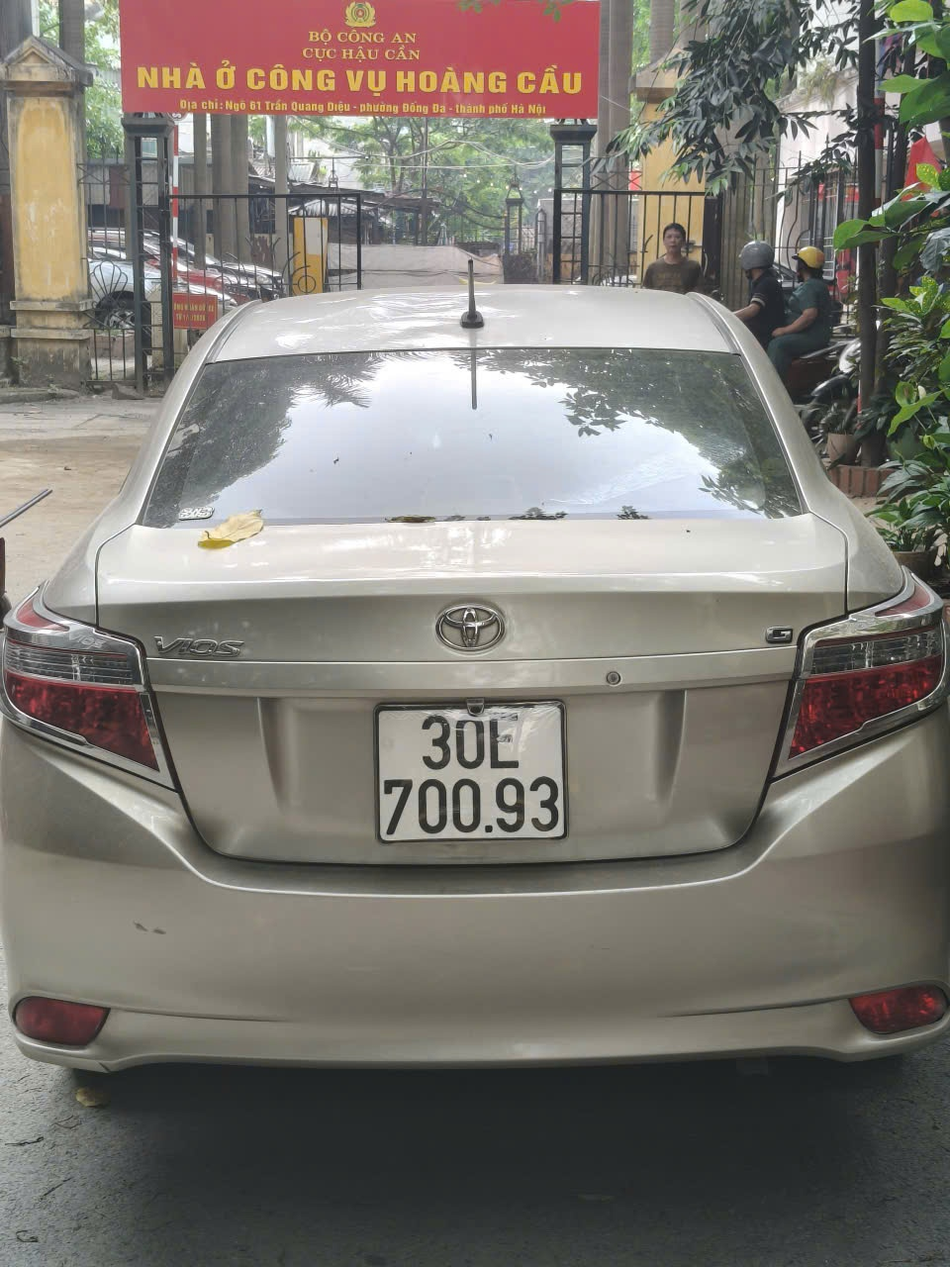plate: (390, 62, 514, 98)
